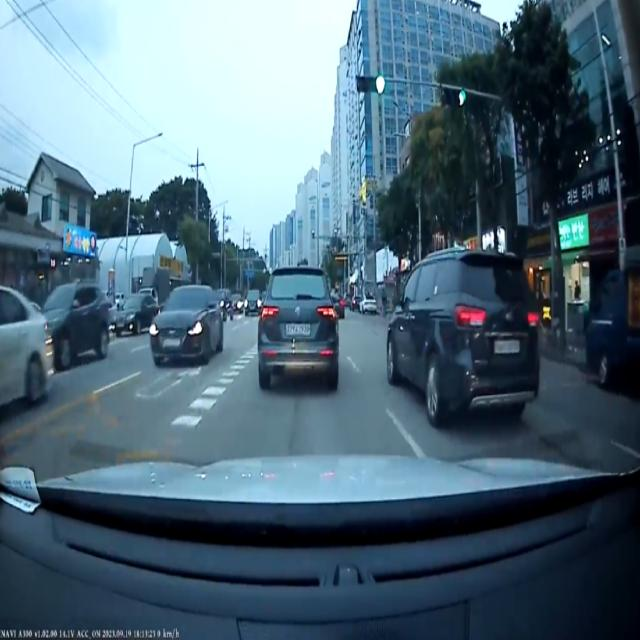Green Light: (376, 72, 386, 96), (457, 89, 466, 106)
